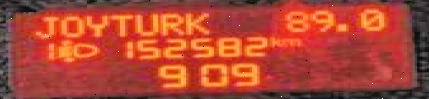-: (333, 22, 348, 32)
0: (193, 62, 226, 87), (356, 7, 386, 32)
1: (41, 41, 53, 61), (122, 38, 132, 60)
2: (241, 34, 267, 55), (160, 37, 186, 58)
5: (186, 37, 214, 57), (132, 37, 158, 58)
8: (280, 8, 308, 32), (214, 36, 242, 57)
9: (155, 62, 186, 88), (229, 60, 259, 85), (307, 8, 333, 30)
X: (183, 10, 211, 34), (28, 13, 54, 38), (107, 12, 132, 37), (132, 11, 158, 34), (84, 12, 107, 37), (158, 12, 181, 36), (56, 14, 79, 37), (279, 37, 300, 46), (267, 36, 279, 47)
